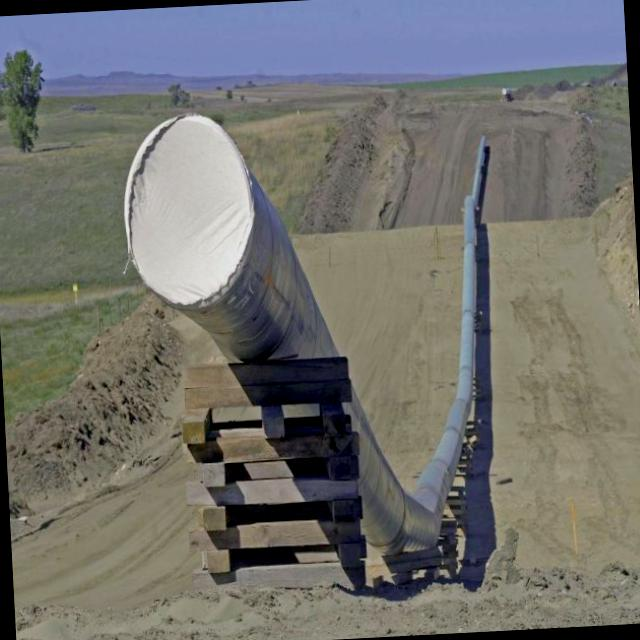gas: (346, 155, 486, 562), (125, 116, 337, 359)
